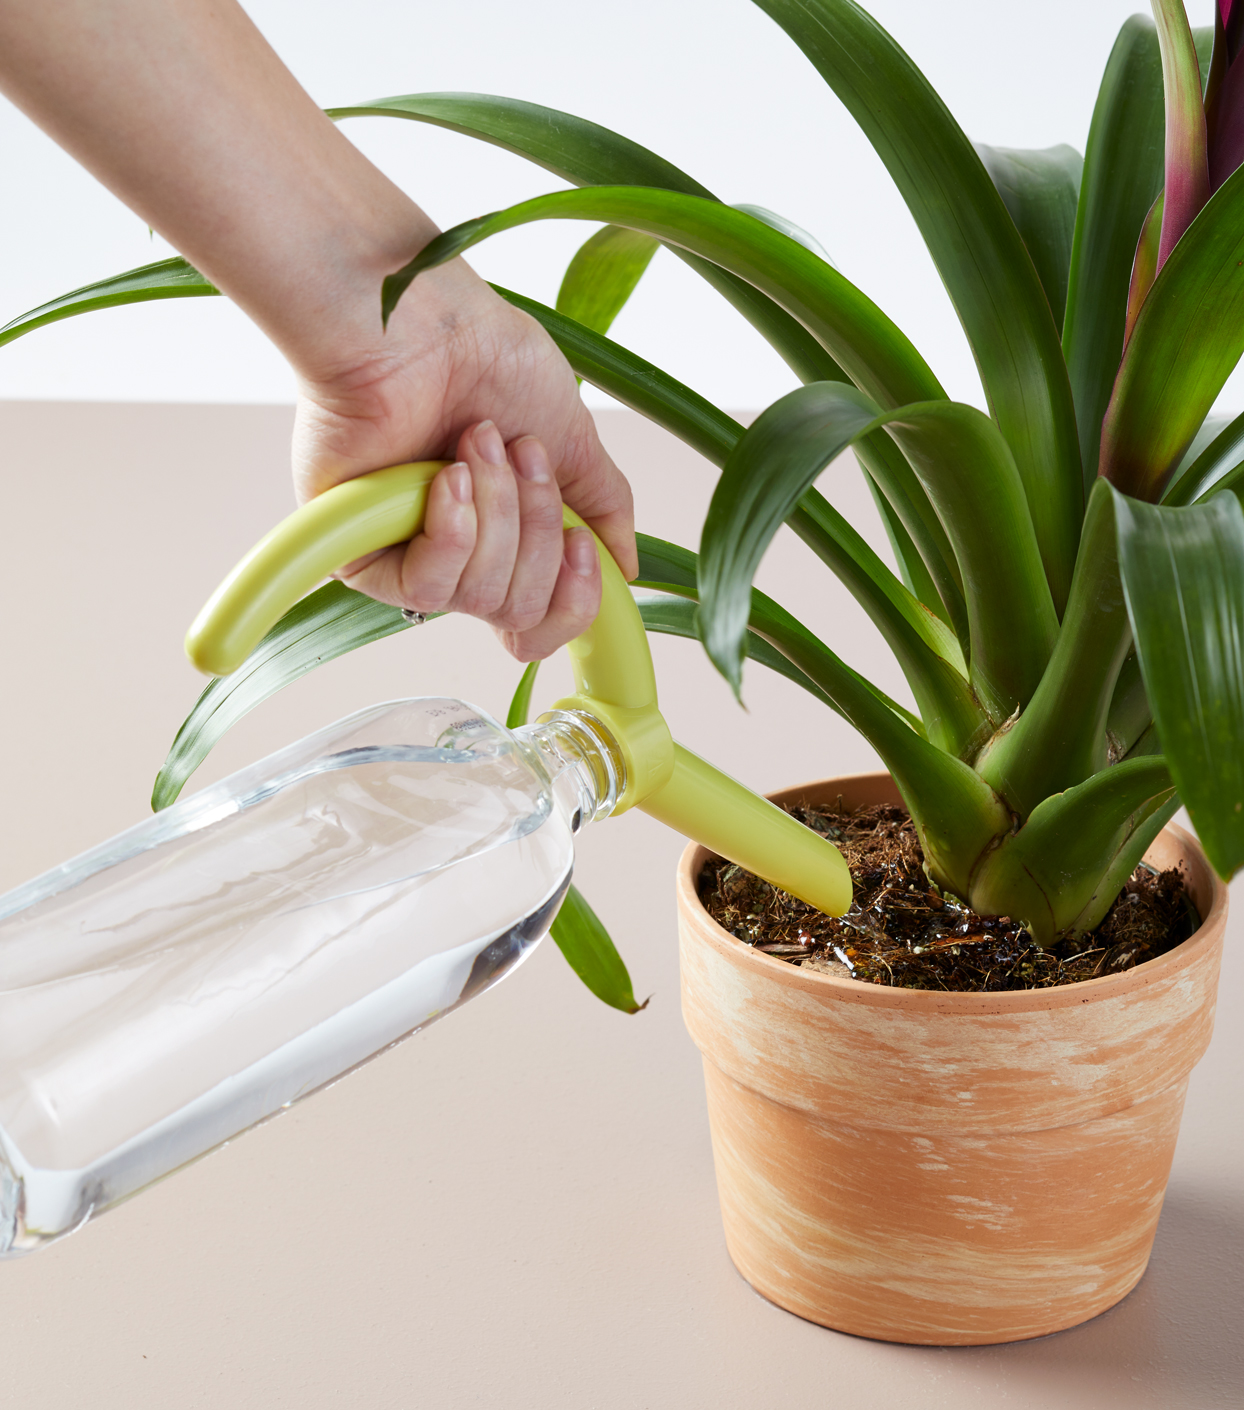tanaman: (334, 34, 1244, 1362)
